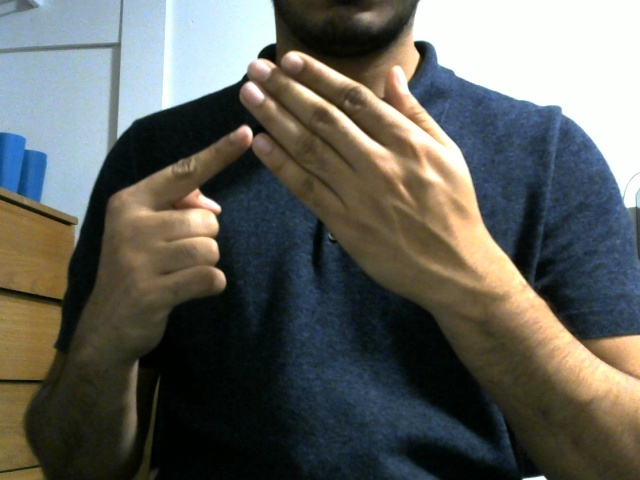Project: (92, 47, 513, 340)
